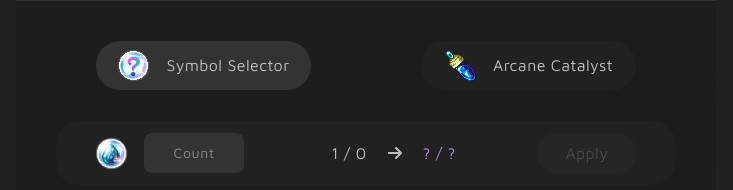
Test case: Tools — Symbol Selector › previews the level/exp after using N symbols and applies it to the store
Check: the text "1 / 0" is shown, box [331, 141, 366, 165]
Check: the text "? / ?" is shown, box [422, 144, 456, 162]
Type "5" into the number field with placeholder "Count". click: (194, 153)
box: [144, 133, 244, 173]
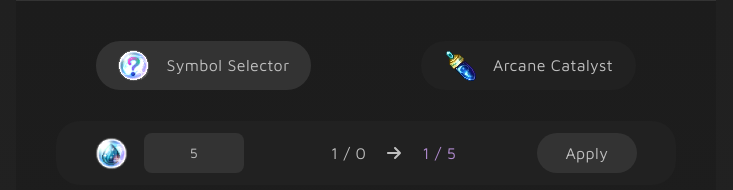
Check: the text "1 / 5" is shown, box [422, 144, 456, 162]
Replace the text in the number field with placeholder "Count" with "30". click: (194, 153)
box: [144, 133, 244, 173]
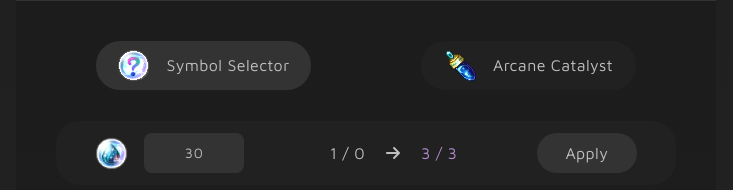
Check: the text "3 / 3" is shown, box [421, 144, 457, 162]
Click the button "Apply". click: (587, 153)
box: [537, 133, 637, 173]
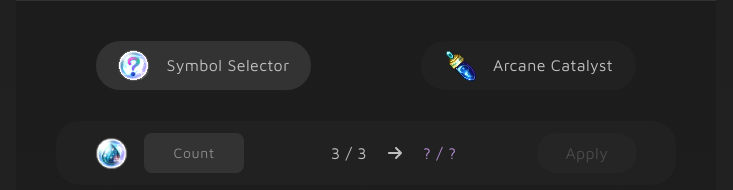
Check: the number field with placeholder "Count" is not empty, box [144, 133, 244, 173]
